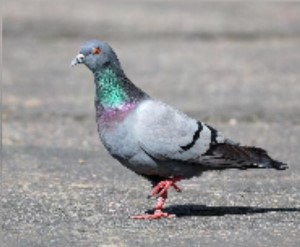pigeon: (70, 38, 291, 221)
